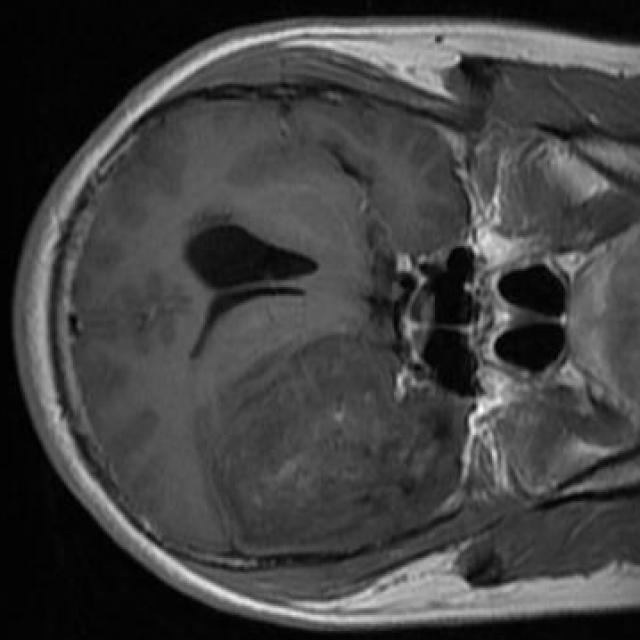glioma: (198, 333, 472, 554)
